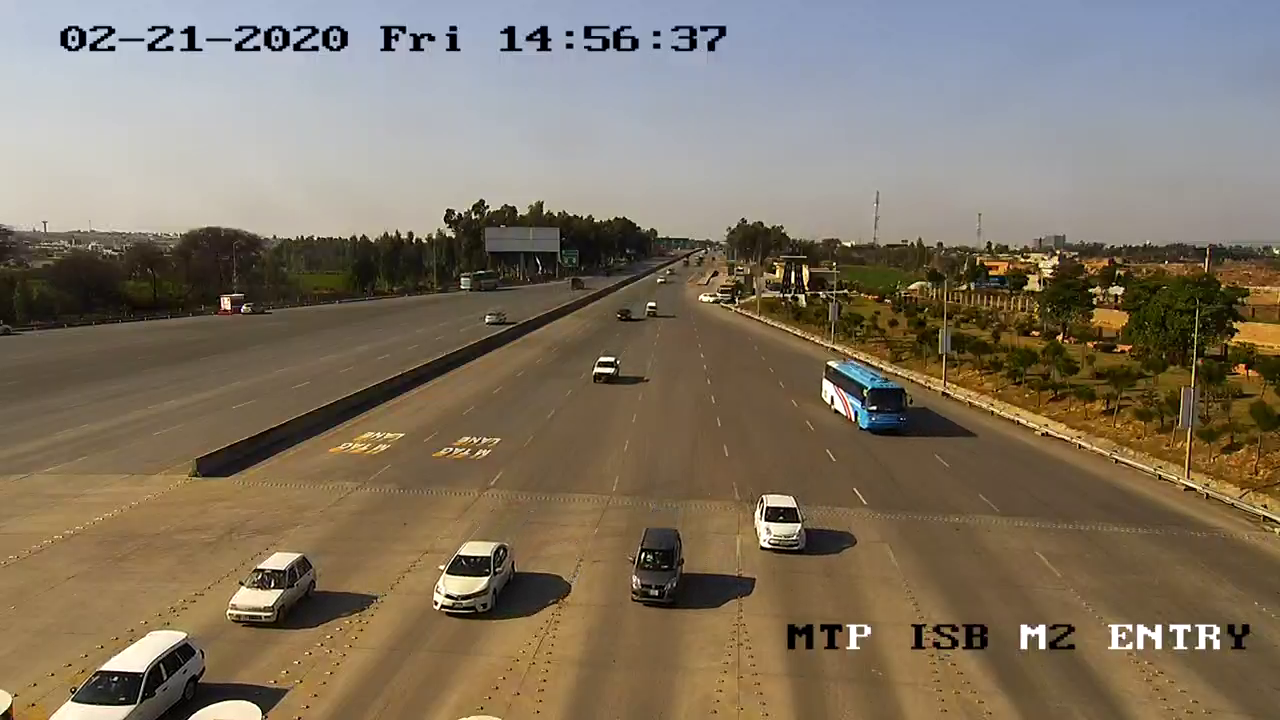f1: (209, 539, 332, 641), (427, 524, 522, 628), (620, 516, 694, 615), (745, 486, 816, 564)
f4: (811, 345, 922, 443)
